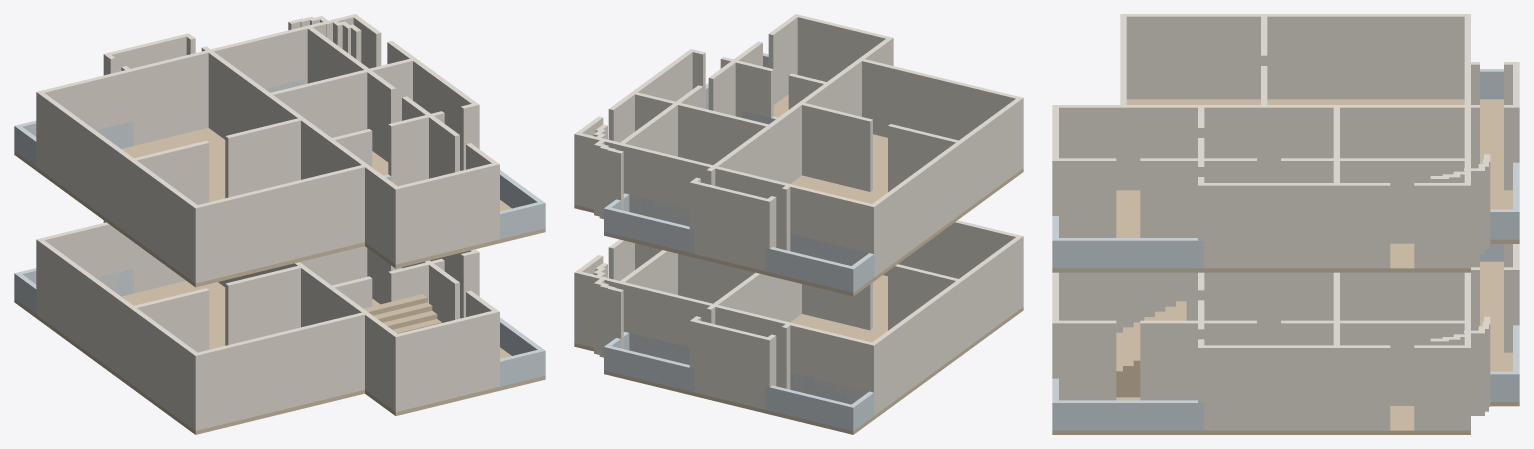
File: earth-villa.glb
3 renders of one model, left to right at view 1: azimuth 30°, elevation 25°; view 2: azimuth 150°, elevation 25°; view 3: azimuth 270°, elevation 25°, orthographic. The views are drawn at different scales.
Visible parts, largest first — view 1: EarthFirst, EarthGround; view 2: EarthFirst, EarthGround; view 3: EarthFirst, EarthGround.
Part boxes in pixels (left/top/right/bottom): EarthFirst: left=14, top=14, right=545, bottom=287; EarthGround: left=14, top=220, right=545, bottom=434; EarthFirst: left=574, top=14, right=1023, bottom=296; EarthGround: left=574, top=220, right=1023, bottom=434; EarthFirst: left=1052, top=14, right=1519, bottom=272; EarthGround: left=1052, top=244, right=1519, bottom=434.
Bounding box in the file's own units: 12.69 × 8.6 × 14.59.
